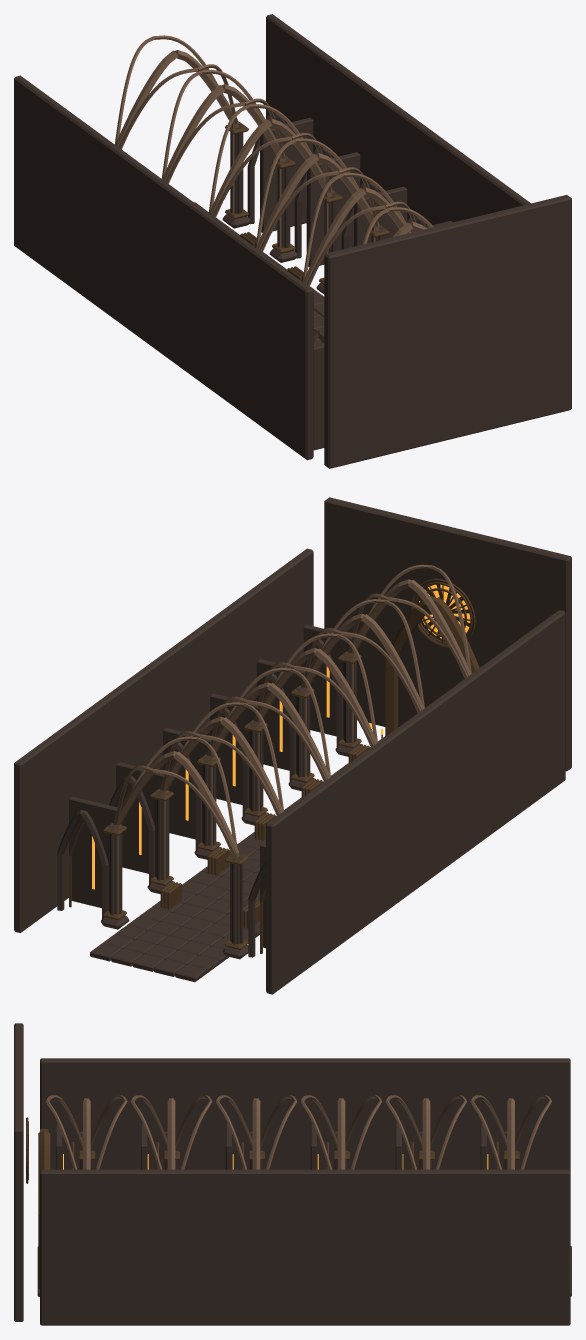
The model's file is CathedralHallV19.fbx.
3 renders of one model, top to bottom at view 1: azimuth 30°, elevation 25°; view 2: azimuth 150°, elevation 25°; view 3: azimuth 270°, elevation 25°, orthographic. The views are drawn at different scales.
Visible parts, largest first — view 1: CathedralHallV19; view 2: CathedralHallV19; view 3: CathedralHallV19.
Part boxes in pixels (x1,y1,x2,y2): CathedralHallV19: [14, 14, 571, 468]; CathedralHallV19: [14, 497, 571, 994]; CathedralHallV19: [14, 1023, 571, 1325].
Size of the model in its own units: 12.8 by 10.26 by 26.29.
